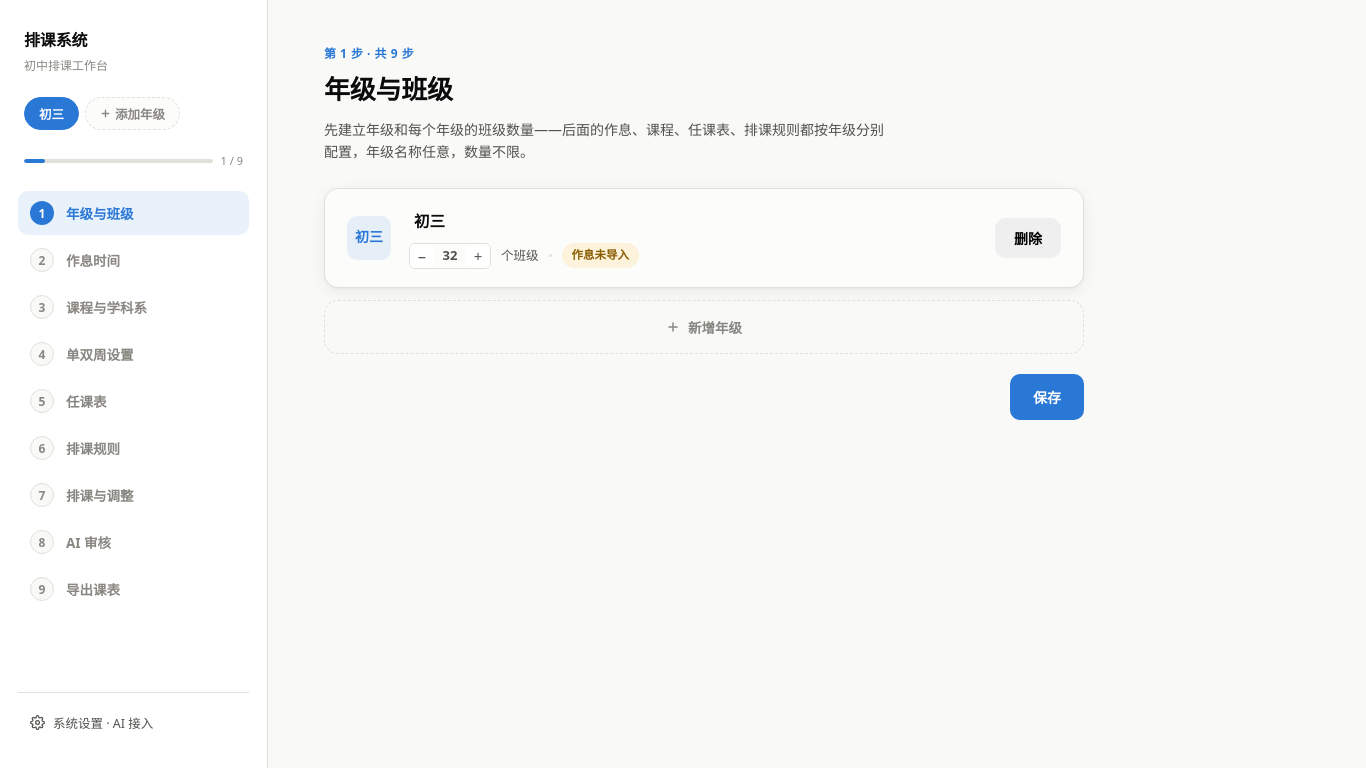
App navigation › step 6 still hosts the temporary two-file import as a fallback
This screenshot has width=1366, height=768.
Click the button with test id "nav-step" showing "6 排课规则". click: (134, 448)
box: [18,426,249,470]
(page scrolled)
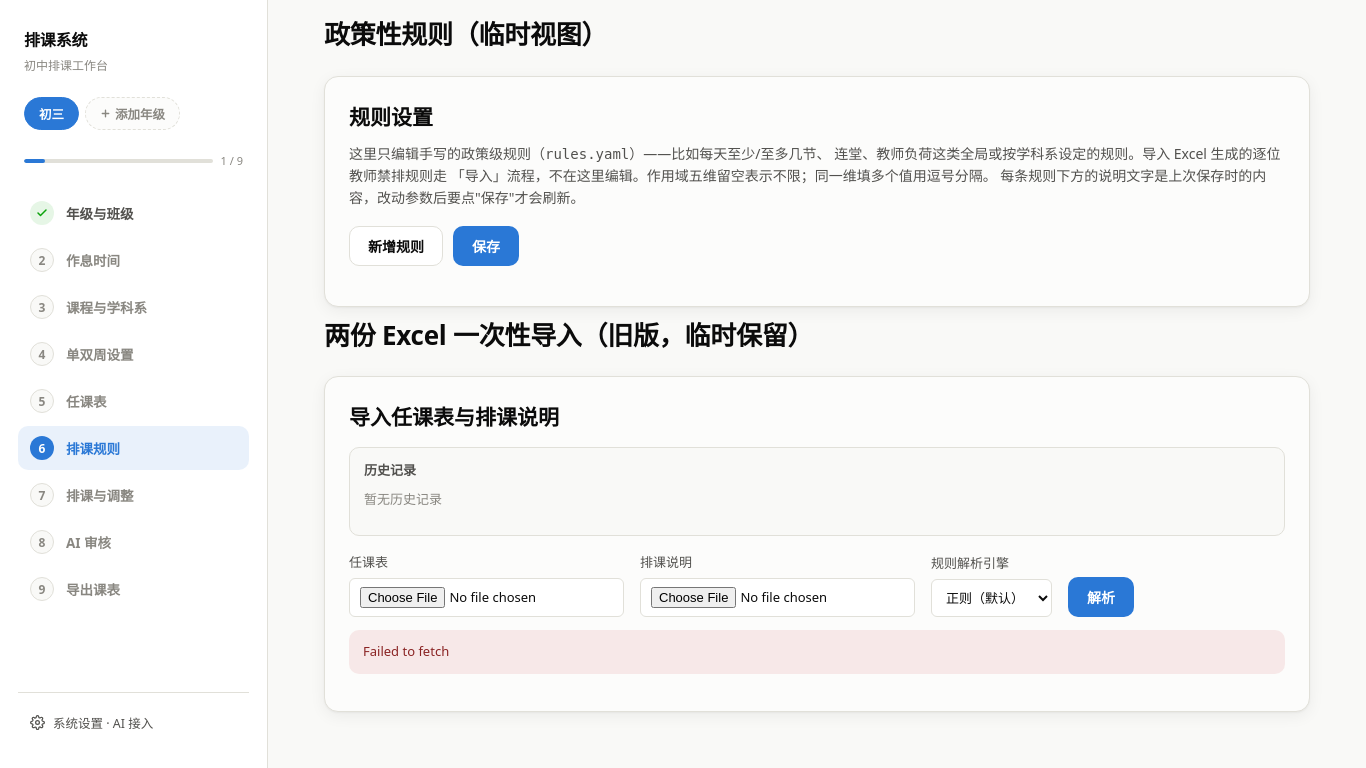
Expected: the element that starts with "规则设置" is shown, [324,76,1310,307]
Expected: the element showing "导入任课表与排课说明 历史记录 暂无历史记录 任课表 排课说明 规则解析引擎 解析 Failed to fetch" is shown, [324,376,1310,712]
